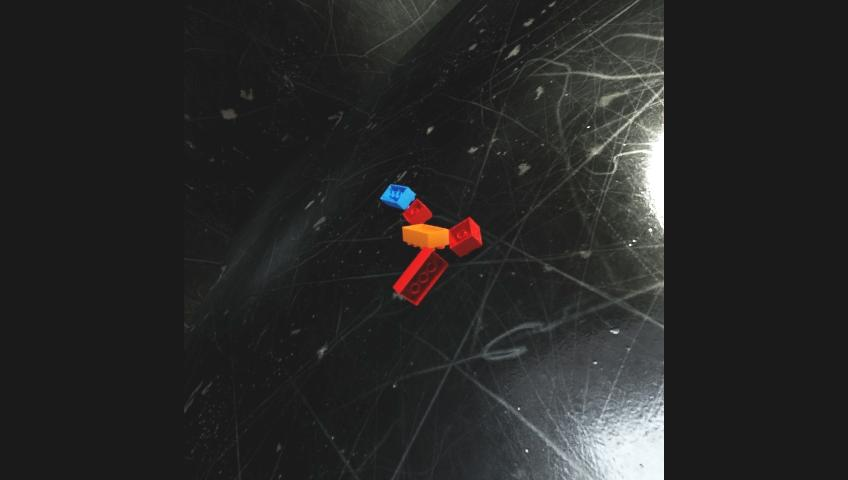2x2_red: (448, 218, 481, 257), (403, 198, 432, 224)
4x2_blue: (381, 184, 416, 208)
4x2_orange: (402, 224, 449, 250)
4x2_red: (392, 246, 448, 305)
